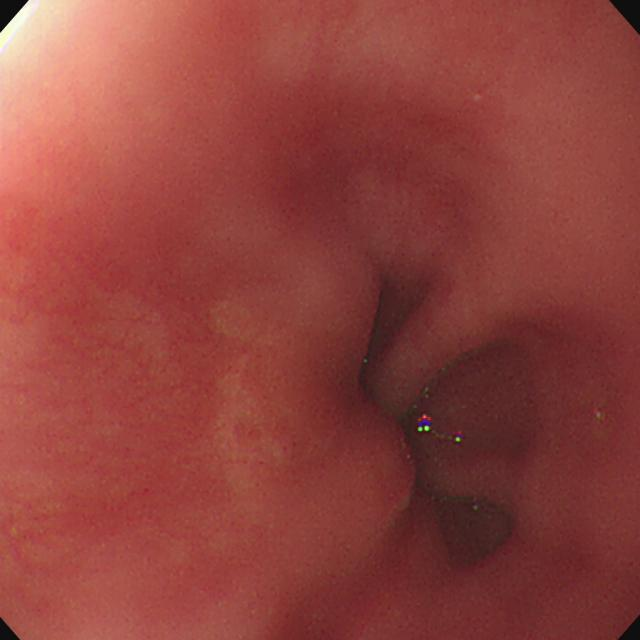I: (313, 206, 541, 563)
U: (418, 414, 433, 434)
